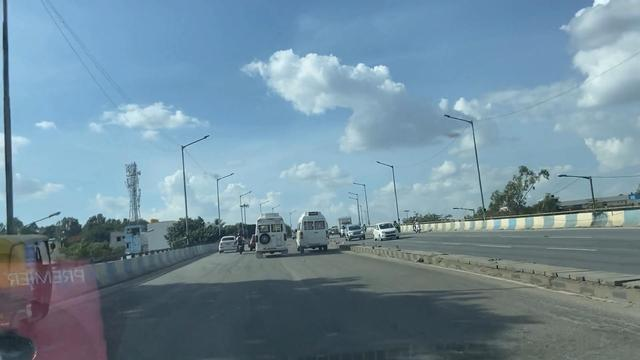HMV: (253, 213, 292, 260), (297, 213, 325, 252)
